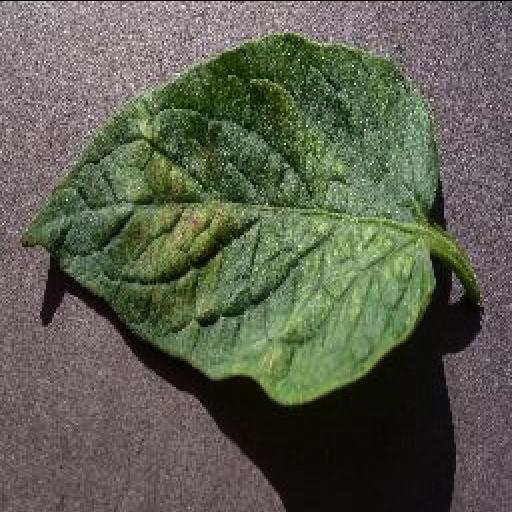disease_tomato: (20, 34, 440, 408)
